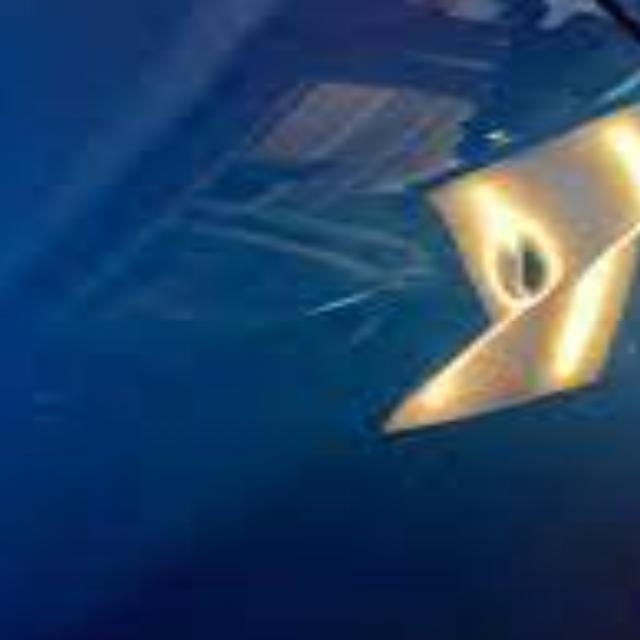dents: (496, 210, 600, 348)
